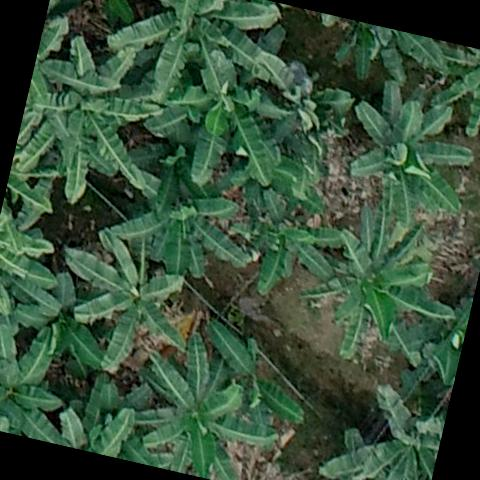Banana-plant: (284, 187, 476, 385), (4, 20, 174, 223), (115, 315, 300, 480), (37, 218, 210, 389), (134, 36, 302, 200), (329, 69, 480, 236), (92, 165, 261, 300), (107, 0, 282, 118), (215, 179, 353, 315), (104, 94, 237, 223), (302, 367, 451, 480), (0, 260, 126, 387), (0, 305, 85, 444), (400, 35, 480, 147), (43, 0, 152, 47)
